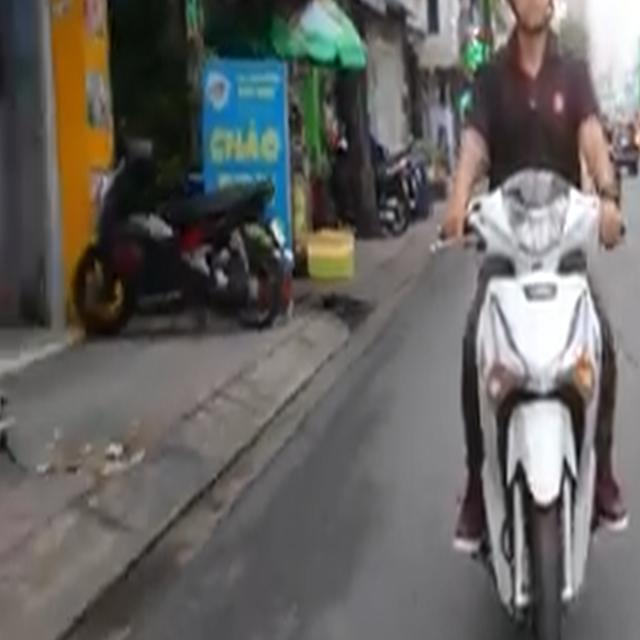motorcycle: (434, 168, 635, 640), (62, 165, 300, 335)
